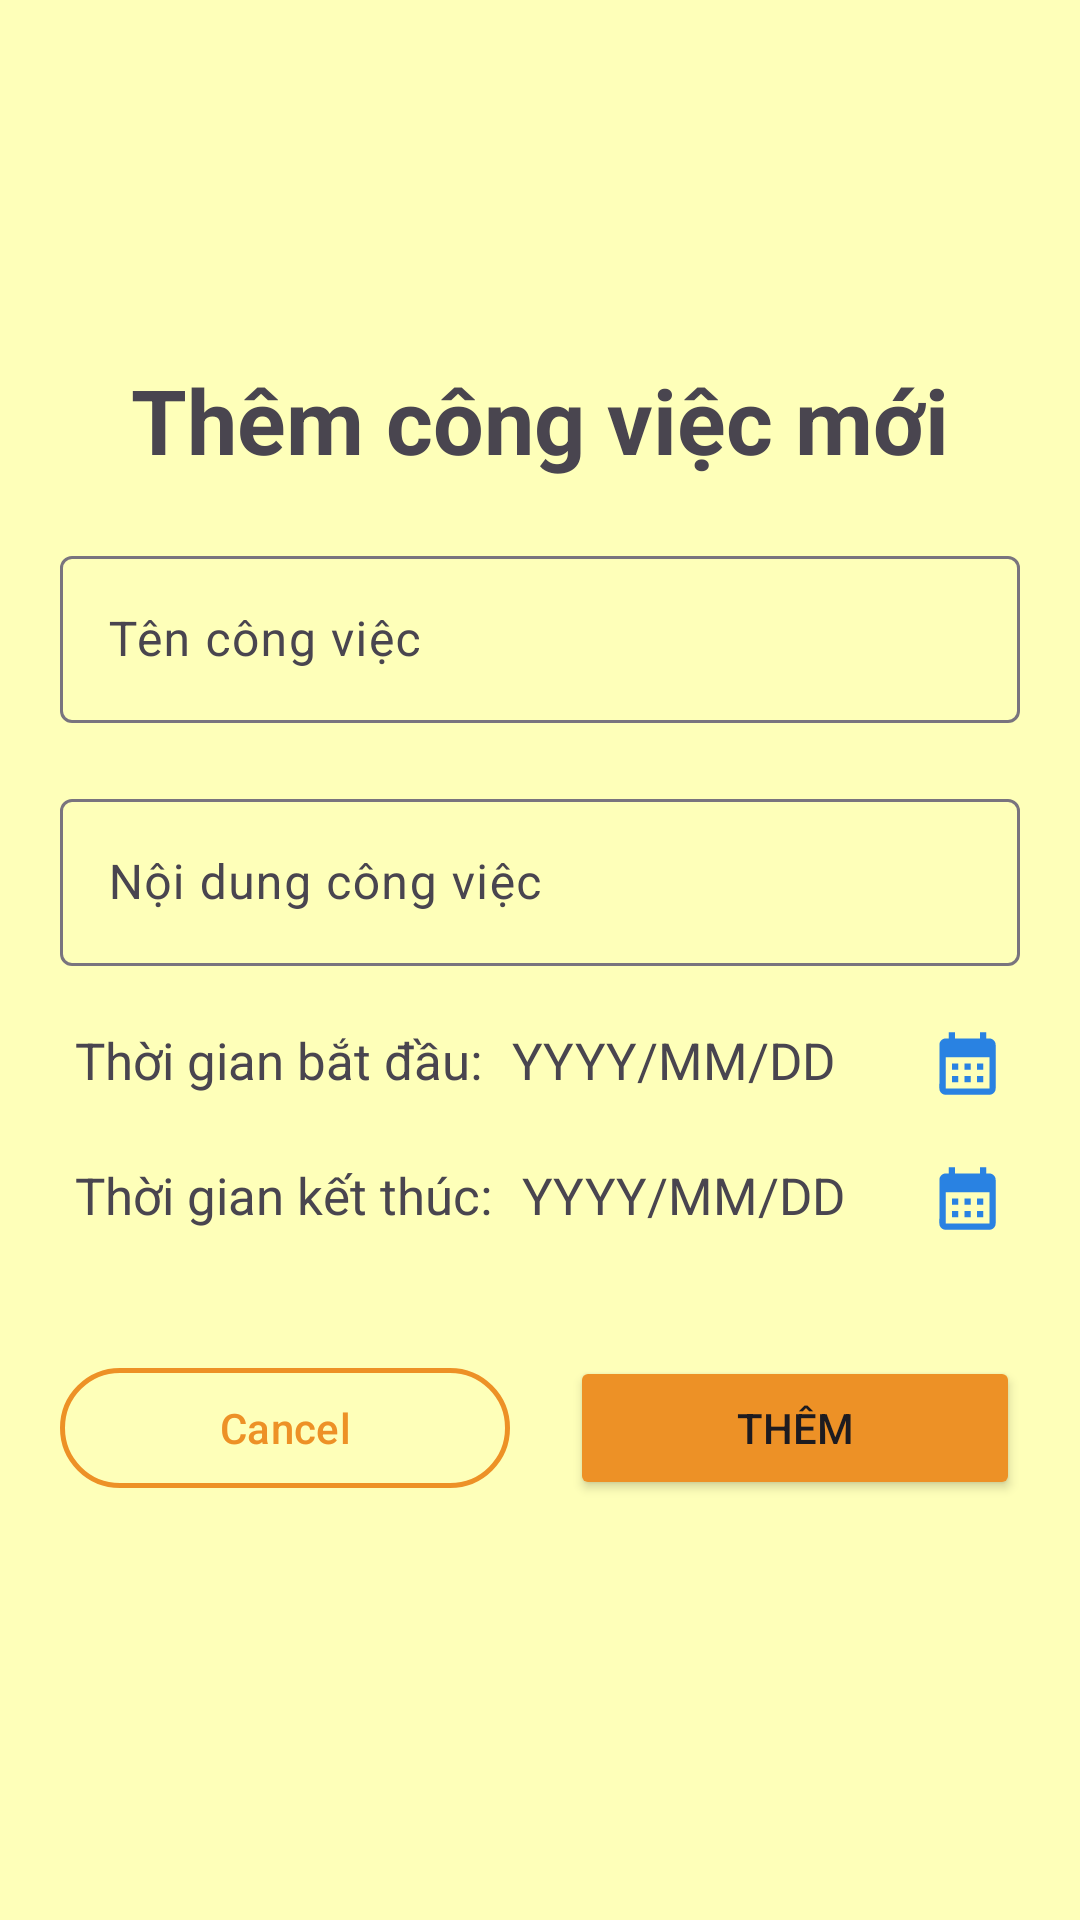

Named icons in this screenshot (1080 x 1920) and their bounding boxes, Rect(x1, y1, x2, y2):
calendar month: Rect(939, 1032, 996, 1095), Rect(939, 1167, 996, 1230)
